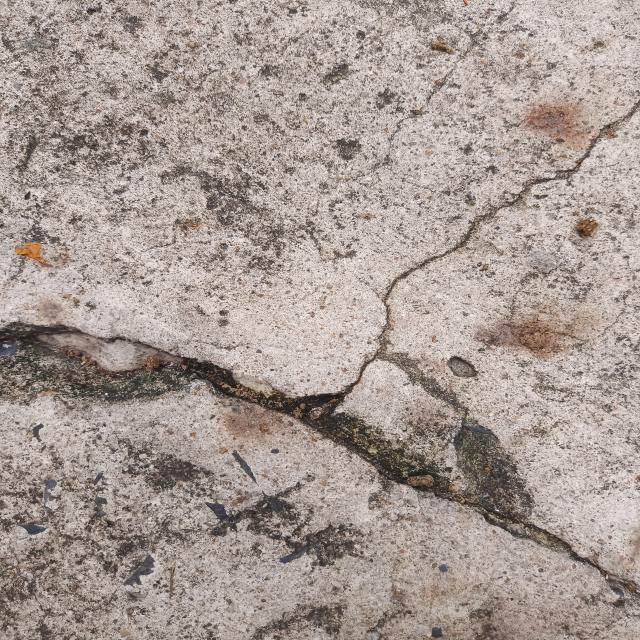branched cracks: (0, 99, 639, 597)
